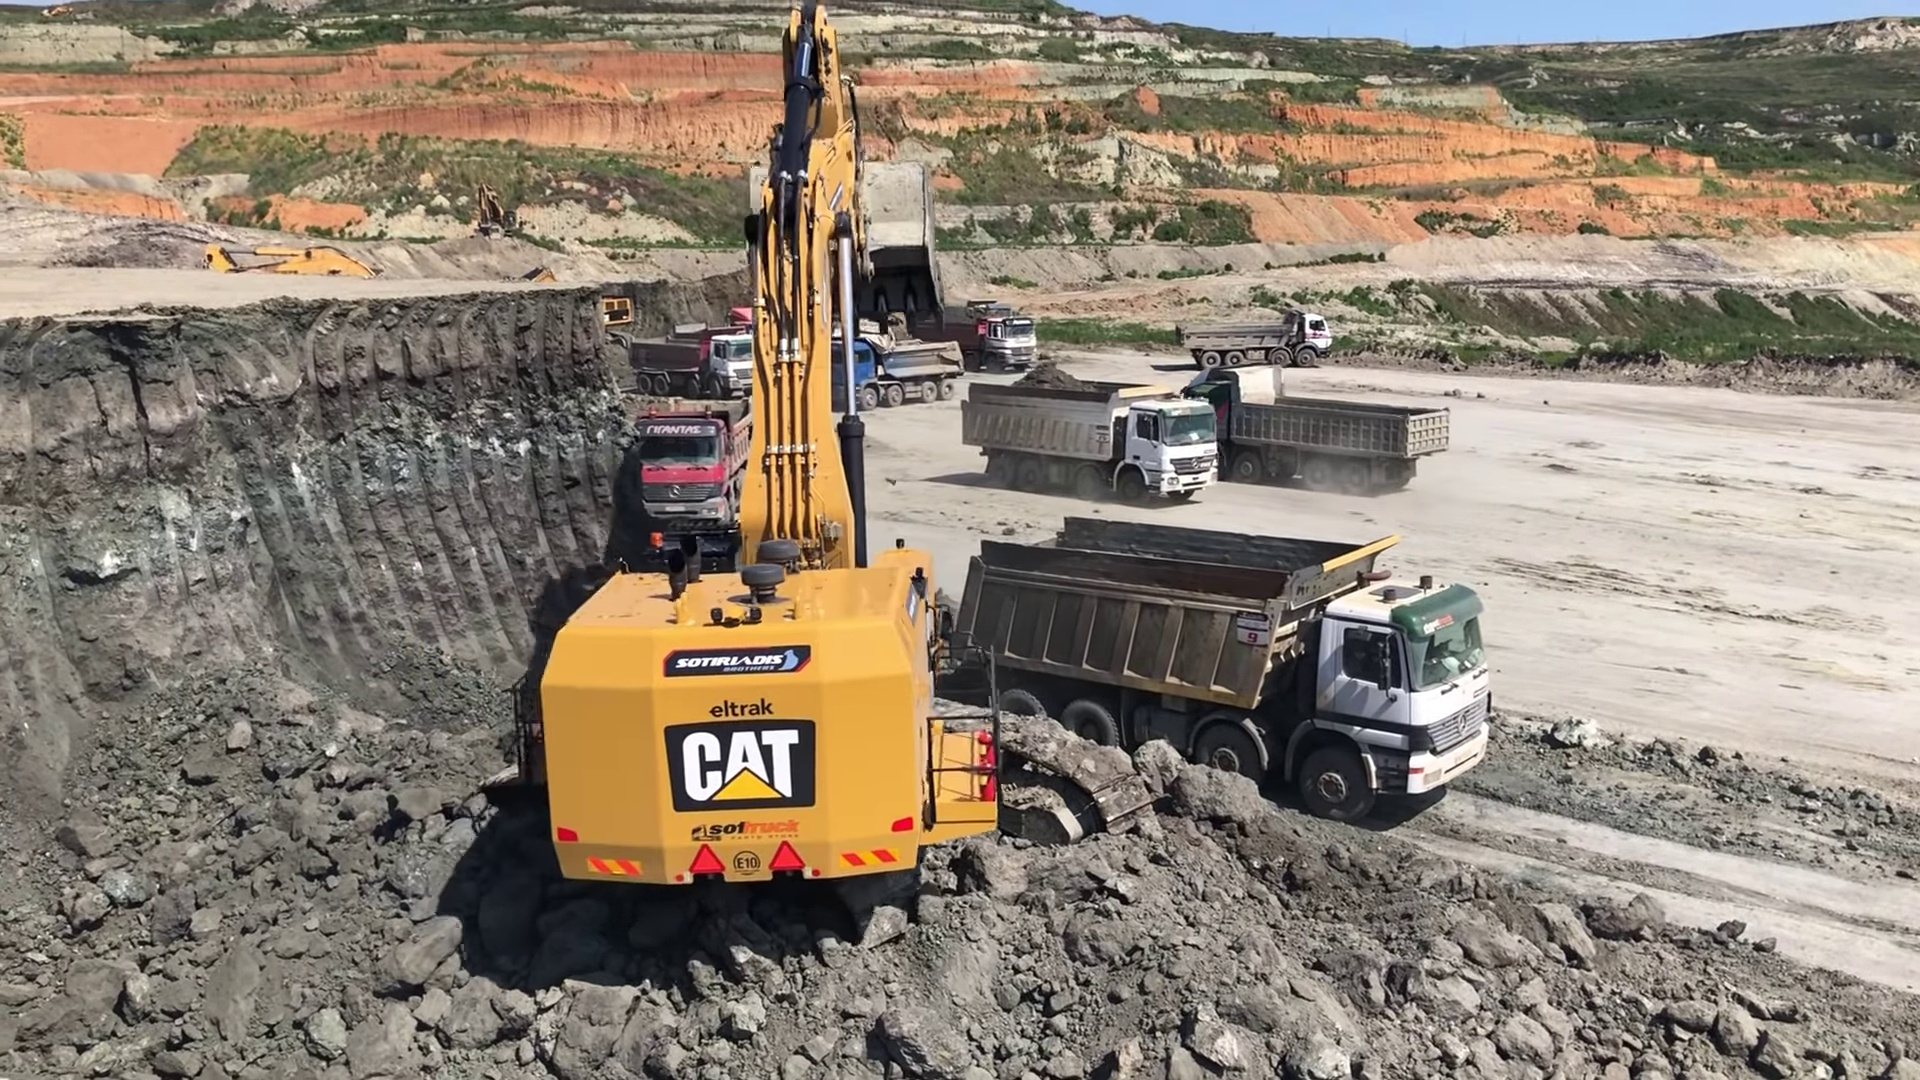excavator: (534, 8, 1004, 895), (196, 229, 382, 376)
truck: (948, 518, 1487, 824), (1189, 368, 1451, 495), (965, 375, 1218, 497), (618, 409, 738, 541), (828, 335, 968, 404), (633, 332, 769, 396), (1182, 315, 1335, 359), (938, 299, 1035, 361)
